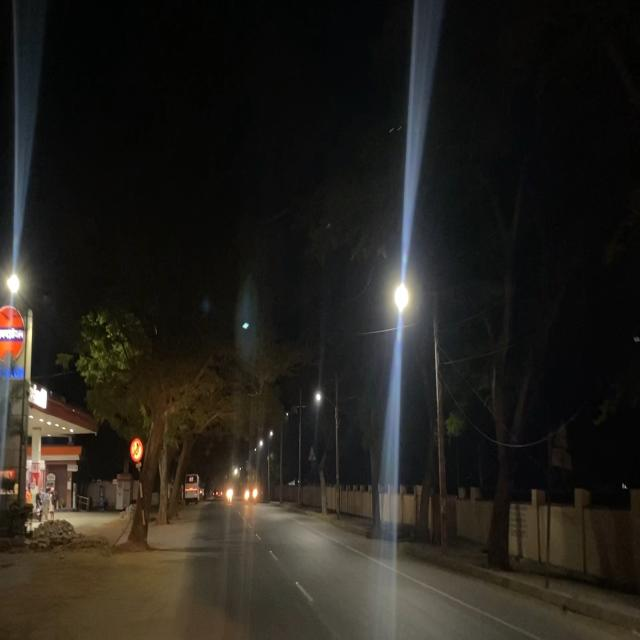bien_cam: (129, 437, 143, 462)
